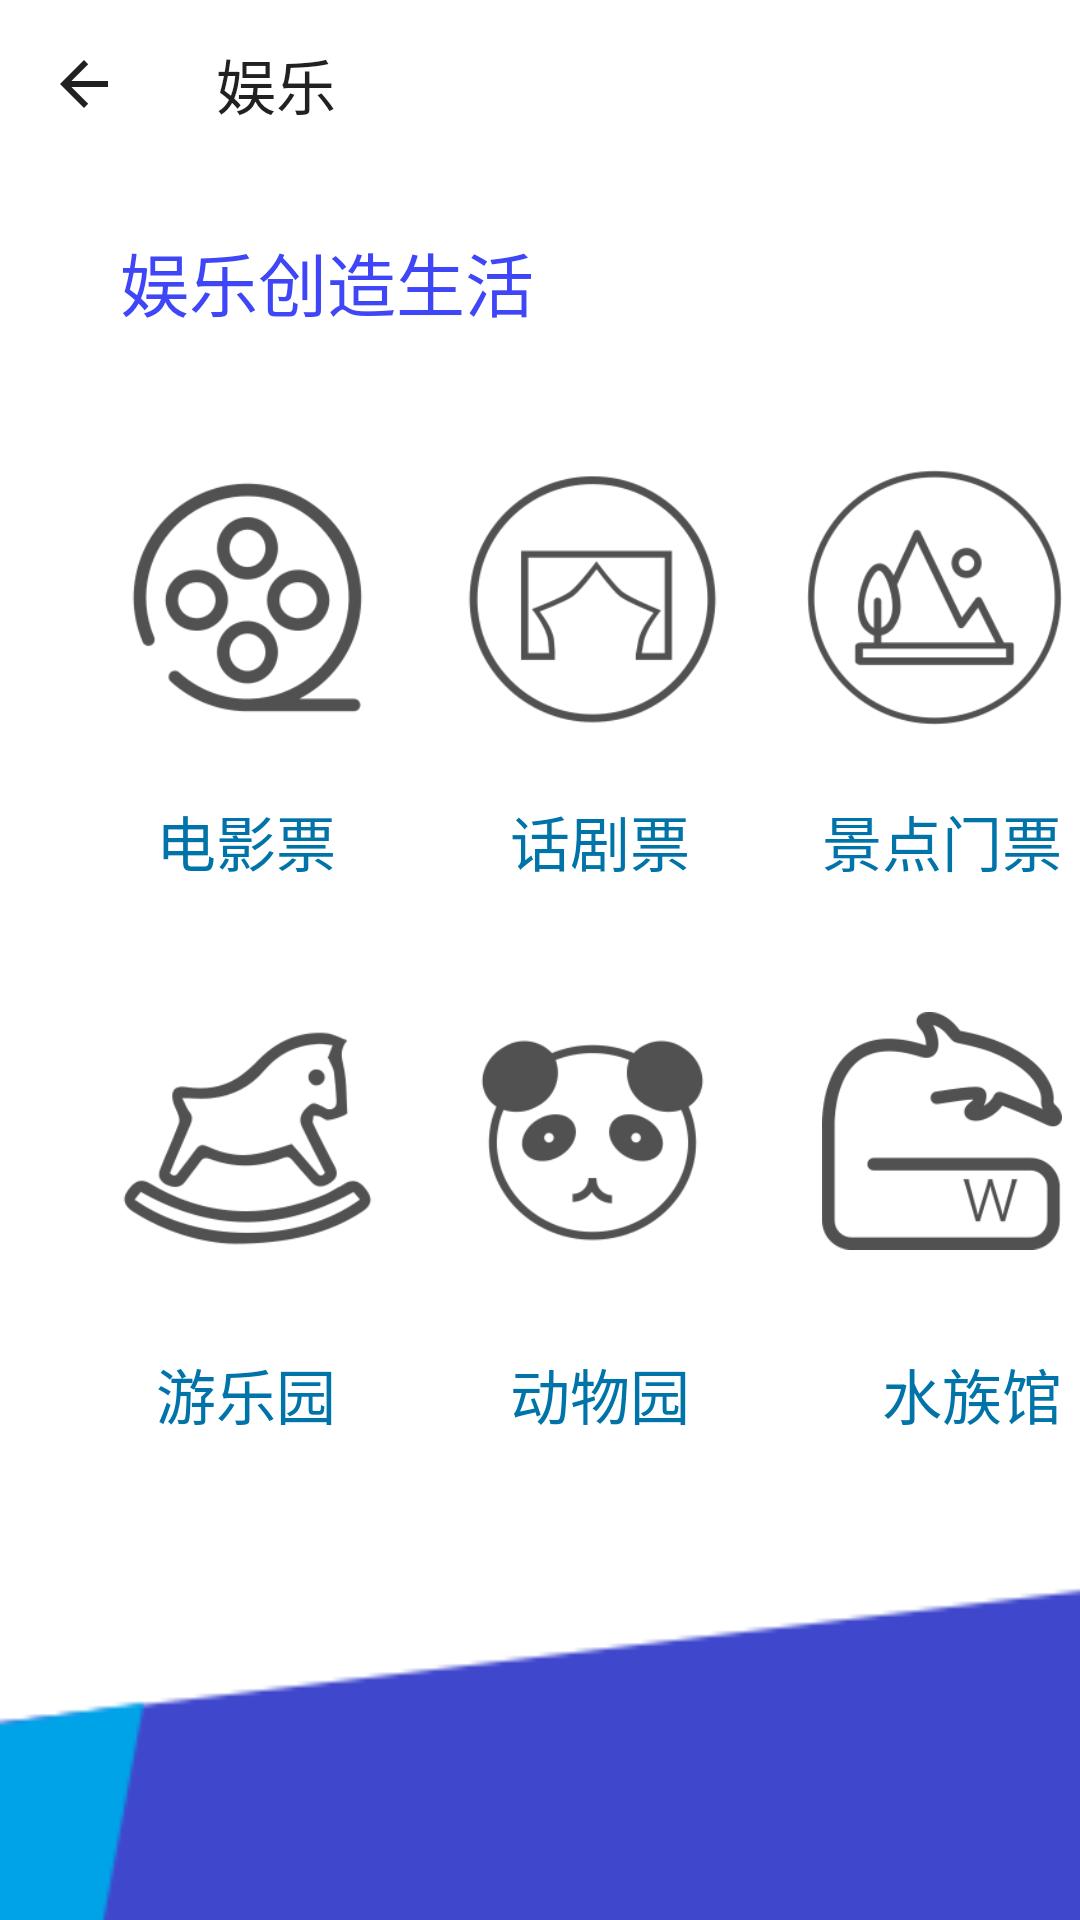

Screen size 1080 × 1920. Icon name, then its center in pixels as (x=x, y=y):
aquarium: (x=942, y=1131)
drama: (x=592, y=599)
movie: (x=247, y=597)
park: (x=247, y=1138)
sight: (x=934, y=597)
zoo: (x=592, y=1140)
